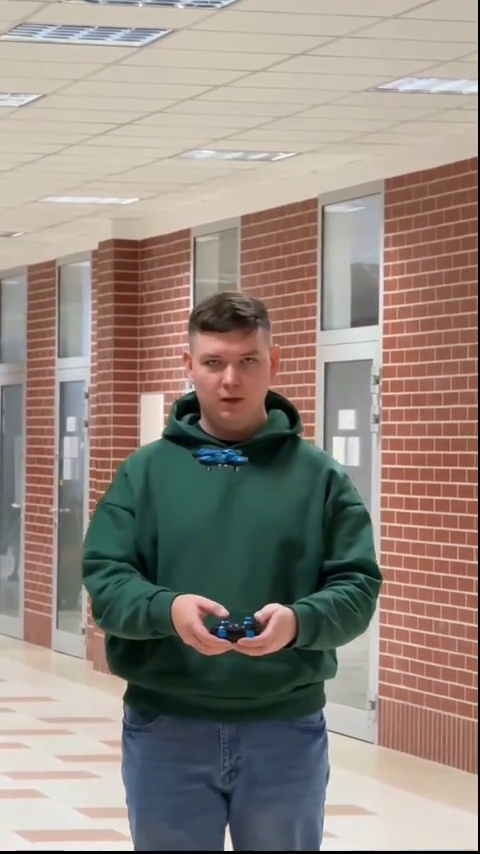drone: (190, 447, 248, 468)
no vest: (91, 298, 378, 820)
